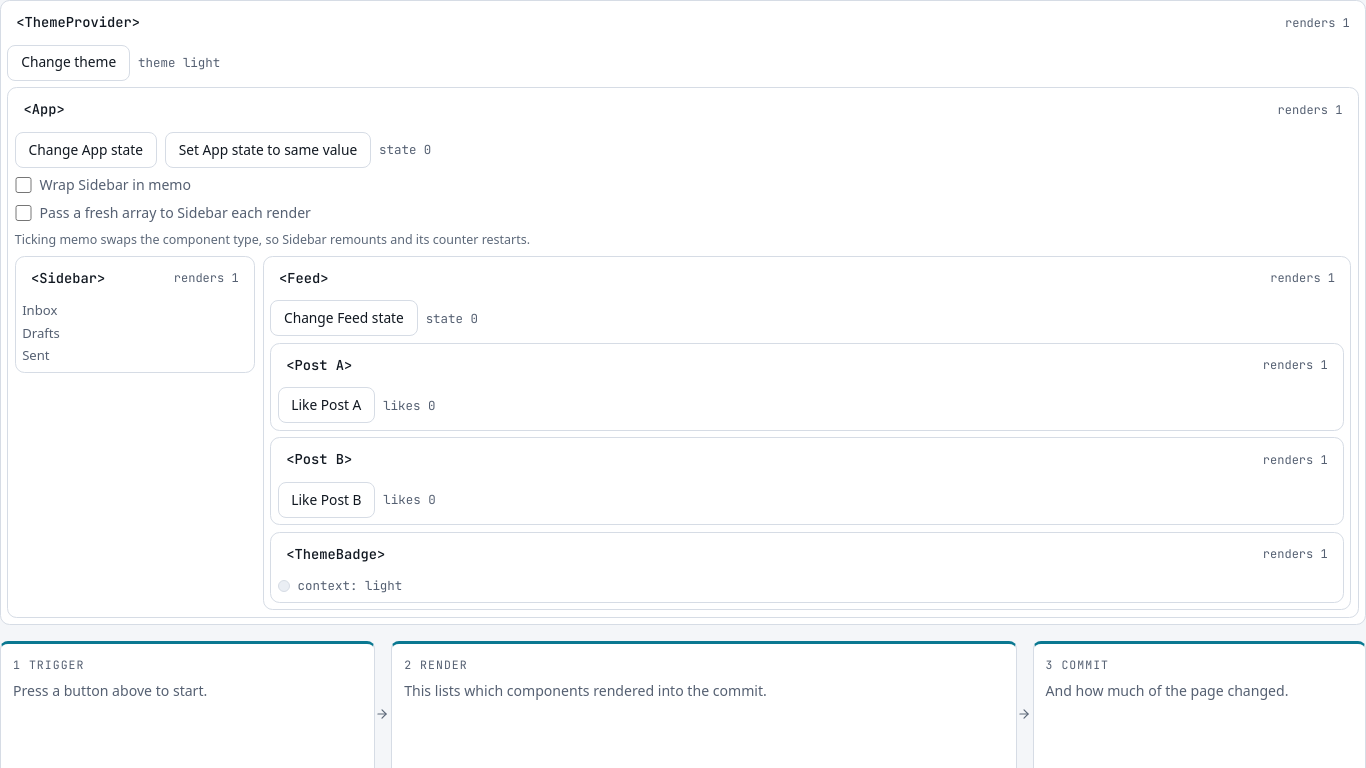
render-tree lab › counts one DOM change when a whole subtree renders but only one text differs
The width and height of the screenshot is (1366, 768).
Click the button "Change App state" at point(86, 150), box top-left (15, 132), bottom-right (157, 168)
(page scrolled)
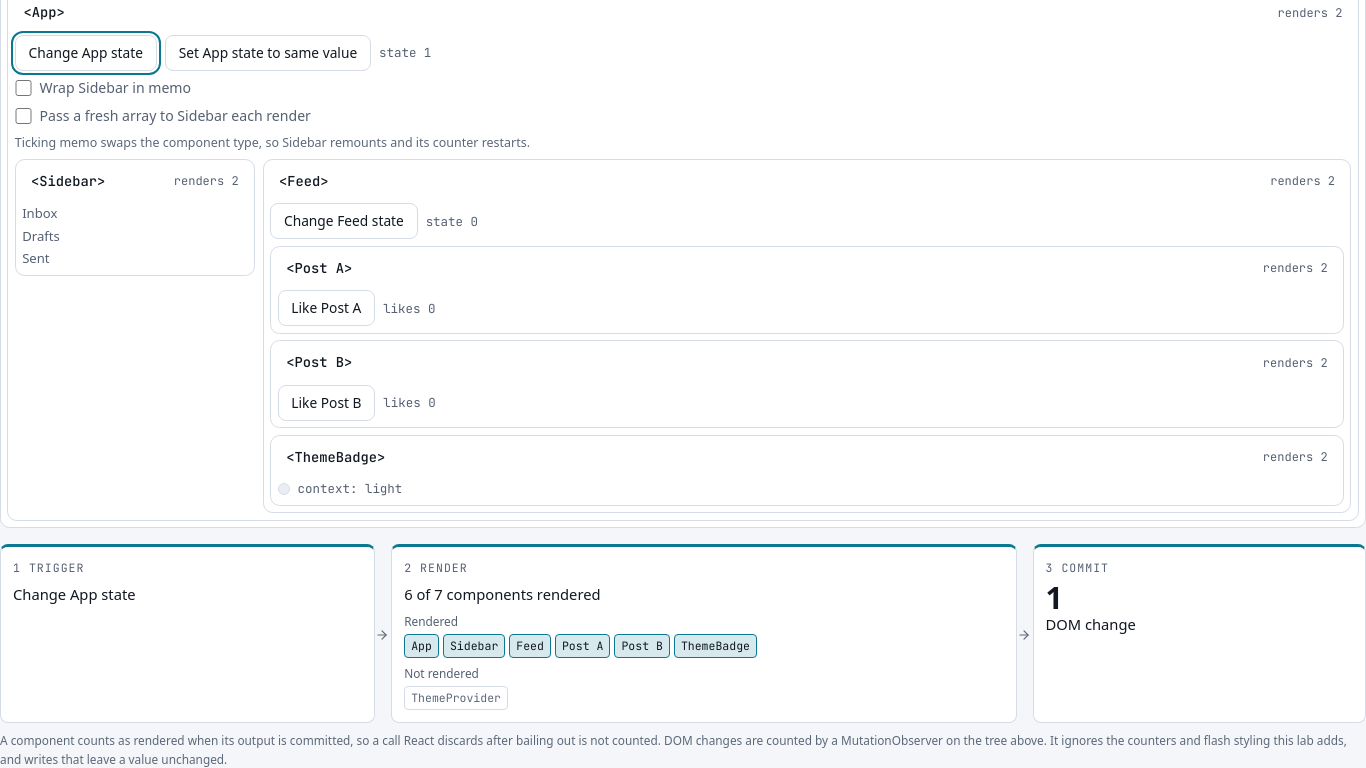
Result: the text "Change App state" is shown at top-left (13, 584), bottom-right (136, 604)
Result: the message named "Last update" shows "6 of 7 components rendered" at top-left (404, 584), bottom-right (600, 604)
